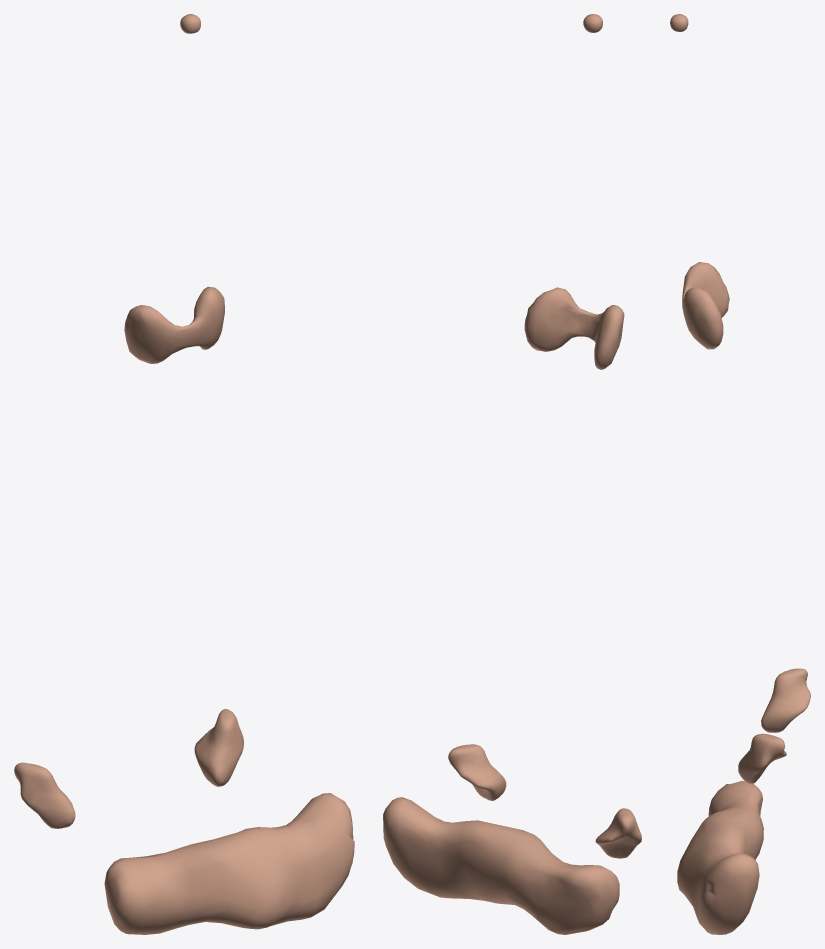
Rendered from pediatric_adolescent_male.endocrine.LOD0.glb.
3 views of the same model, side by side, from view 1: azimuth 30°, elevation 25°; view 2: azimuth 150°, elevation 25°; view 3: azimuth 270°, elevation 25° (orthographic). The views are drawn at different scales.
Visible parts, largest first — view 1: PEDIATRIC.ADOLESCENT.MALE.ENDOCRINE.PANCREAS, PEDIATRIC.ADOLESCENT.MALE.ENDOCRINE.THYROID, PEDIATRIC.ADOLESCENT.MALE.ENDOCRINE.ADRENAL.L, PEDIATRIC.ADOLESCENT.MALE.ENDOCRINE.ADRENAL.R; view 2: PEDIATRIC.ADOLESCENT.MALE.ENDOCRINE.PANCREAS, PEDIATRIC.ADOLESCENT.MALE.ENDOCRINE.THYROID, PEDIATRIC.ADOLESCENT.MALE.ENDOCRINE.ADRENAL.L, PEDIATRIC.ADOLESCENT.MALE.ENDOCRINE.ADRENAL.R; view 3: PEDIATRIC.ADOLESCENT.MALE.ENDOCRINE.PANCREAS, PEDIATRIC.ADOLESCENT.MALE.ENDOCRINE.THYROID, PEDIATRIC.ADOLESCENT.MALE.ENDOCRINE.ADRENAL.R, PEDIATRIC.ADOLESCENT.MALE.ENDOCRINE.ADRENAL.L.
Boxes of the visible parts, box(x1,y1,x2,y2) form: PEDIATRIC.ADOLESCENT.MALE.ENDOCRINE.PANCREAS: box(104, 793, 354, 934); PEDIATRIC.ADOLESCENT.MALE.ENDOCRINE.THYROID: box(124, 286, 224, 363); PEDIATRIC.ADOLESCENT.MALE.ENDOCRINE.ADRENAL.L: box(194, 709, 243, 786); PEDIATRIC.ADOLESCENT.MALE.ENDOCRINE.ADRENAL.R: box(14, 762, 75, 828); PEDIATRIC.ADOLESCENT.MALE.ENDOCRINE.PANCREAS: box(383, 797, 619, 934); PEDIATRIC.ADOLESCENT.MALE.ENDOCRINE.THYROID: box(524, 287, 624, 369); PEDIATRIC.ADOLESCENT.MALE.ENDOCRINE.ADRENAL.L: box(448, 744, 506, 800); PEDIATRIC.ADOLESCENT.MALE.ENDOCRINE.ADRENAL.R: box(595, 808, 641, 858); PEDIATRIC.ADOLESCENT.MALE.ENDOCRINE.PANCREAS: box(677, 780, 763, 934); PEDIATRIC.ADOLESCENT.MALE.ENDOCRINE.THYROID: box(682, 262, 729, 349); PEDIATRIC.ADOLESCENT.MALE.ENDOCRINE.ADRENAL.R: box(761, 668, 810, 732); PEDIATRIC.ADOLESCENT.MALE.ENDOCRINE.ADRENAL.L: box(738, 733, 786, 783).
Bounding box in the file's own units: 0.1675 × 0.5113 × 0.0761.
